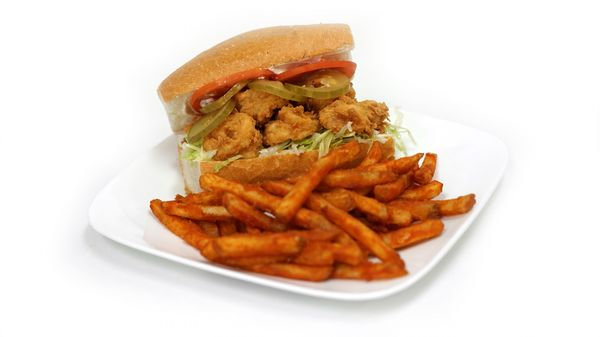soup: (156, 22, 361, 193)
